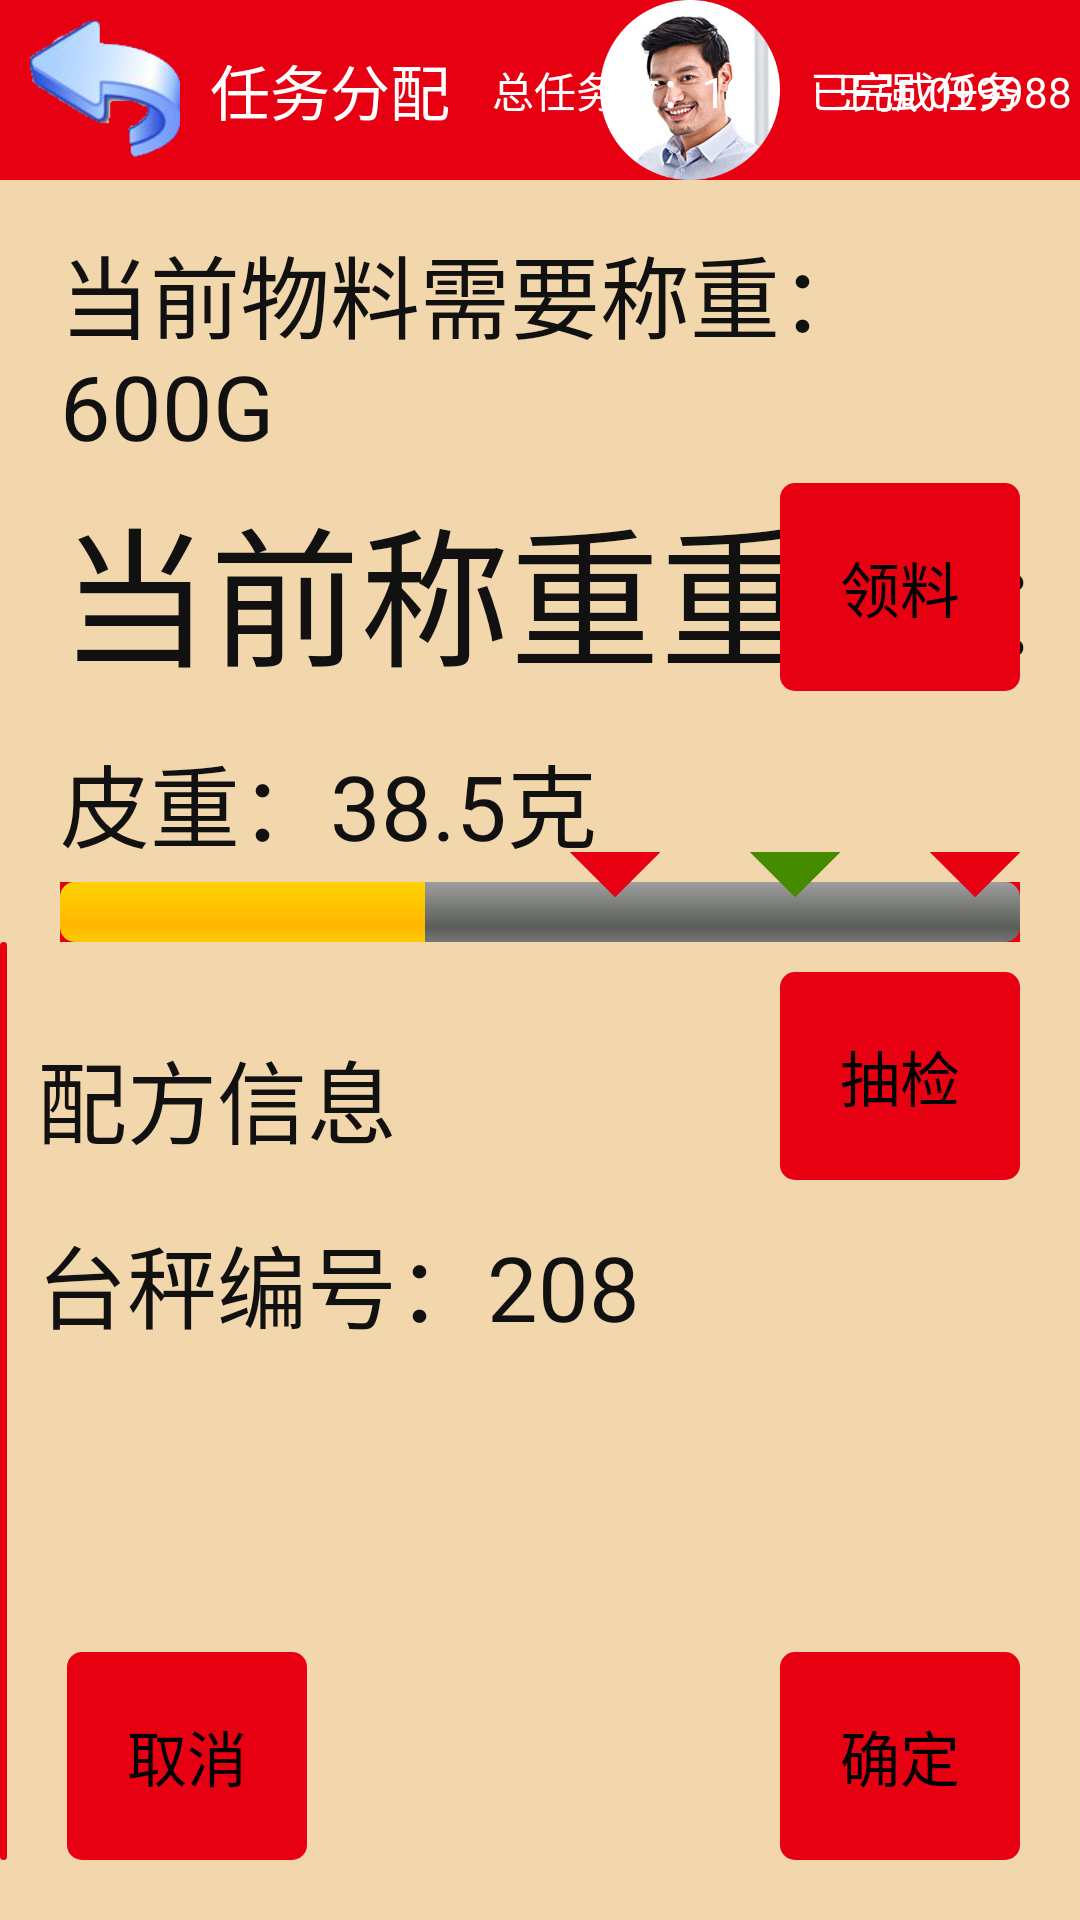

Icon click points for this 1080px x 1920px phone screenshot, format (x=x, y=y):
back: (x=105, y=89)
triangle: (x=615, y=897), (x=795, y=897), (x=975, y=897)
